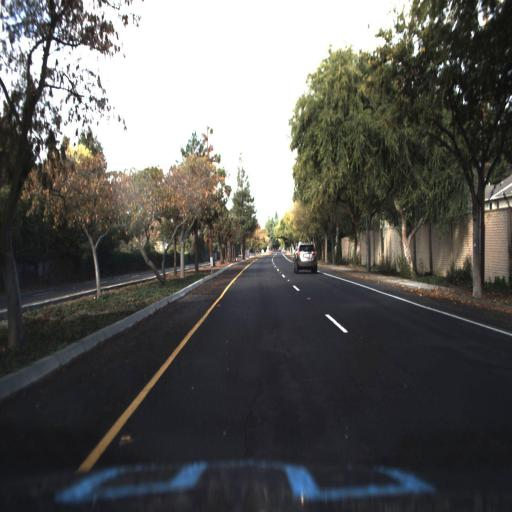car: (292, 239, 318, 276)
